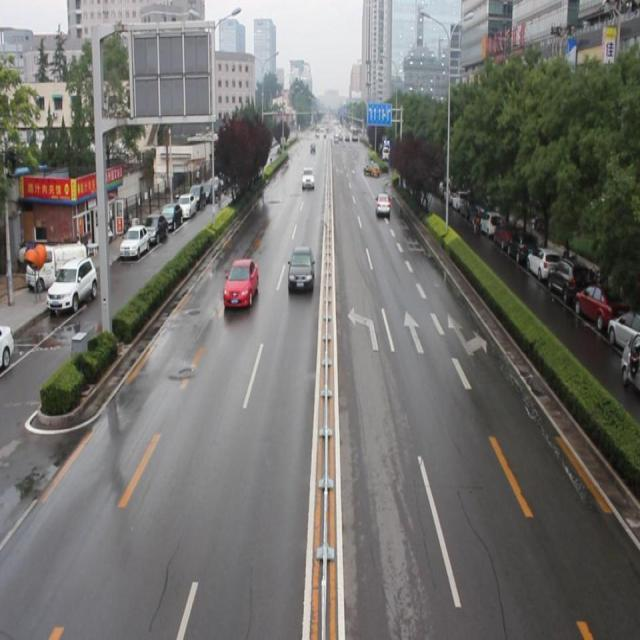car: (223, 257, 258, 310), (286, 247, 314, 290), (374, 191, 389, 219), (362, 160, 379, 180), (300, 168, 314, 192)
